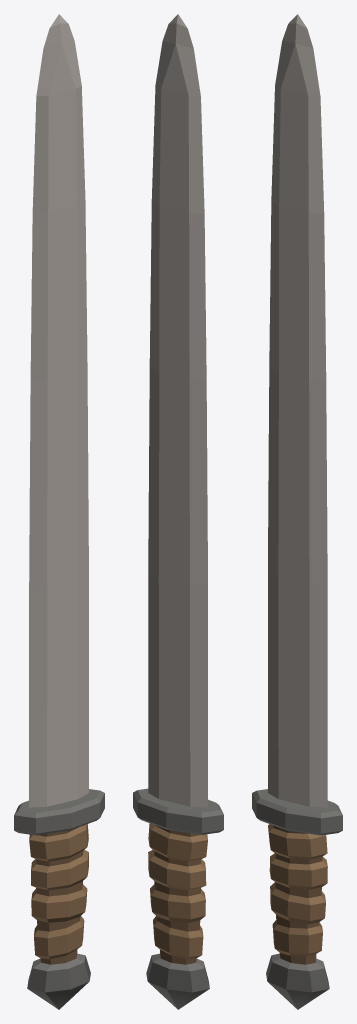
The model's file is SM_pwe_slavic_sword_04.fbx.
3 renders of one model, left to right at view 1: azimuth 30°, elevation 25°; view 2: azimuth 150°, elevation 25°; view 3: azimuth 330°, elevation 25°, orthographic.
Parts seen in each view (by area): view 1: SM_pwe_slavic_sword_04; view 2: SM_pwe_slavic_sword_04; view 3: SM_pwe_slavic_sword_04.
Boxes of the visible parts, left/top/right/bottom form: SM_pwe_slavic_sword_04: left=14, top=14, right=104, bottom=1009; SM_pwe_slavic_sword_04: left=133, top=14, right=223, bottom=1009; SM_pwe_slavic_sword_04: left=252, top=14, right=342, bottom=1009.
Size of the model in its own units: 8.52 by 89.21 by 3.97.
